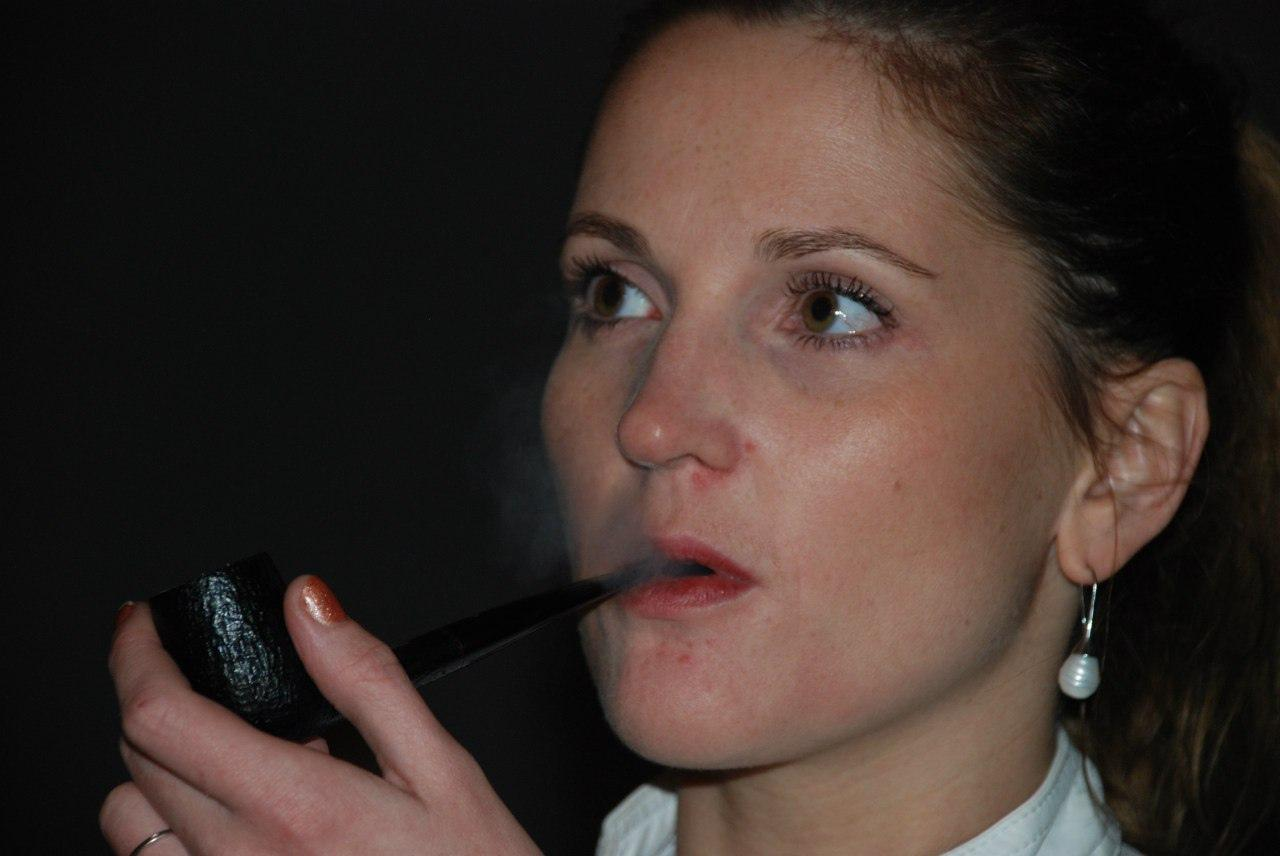trubka: (148, 548, 679, 741)
